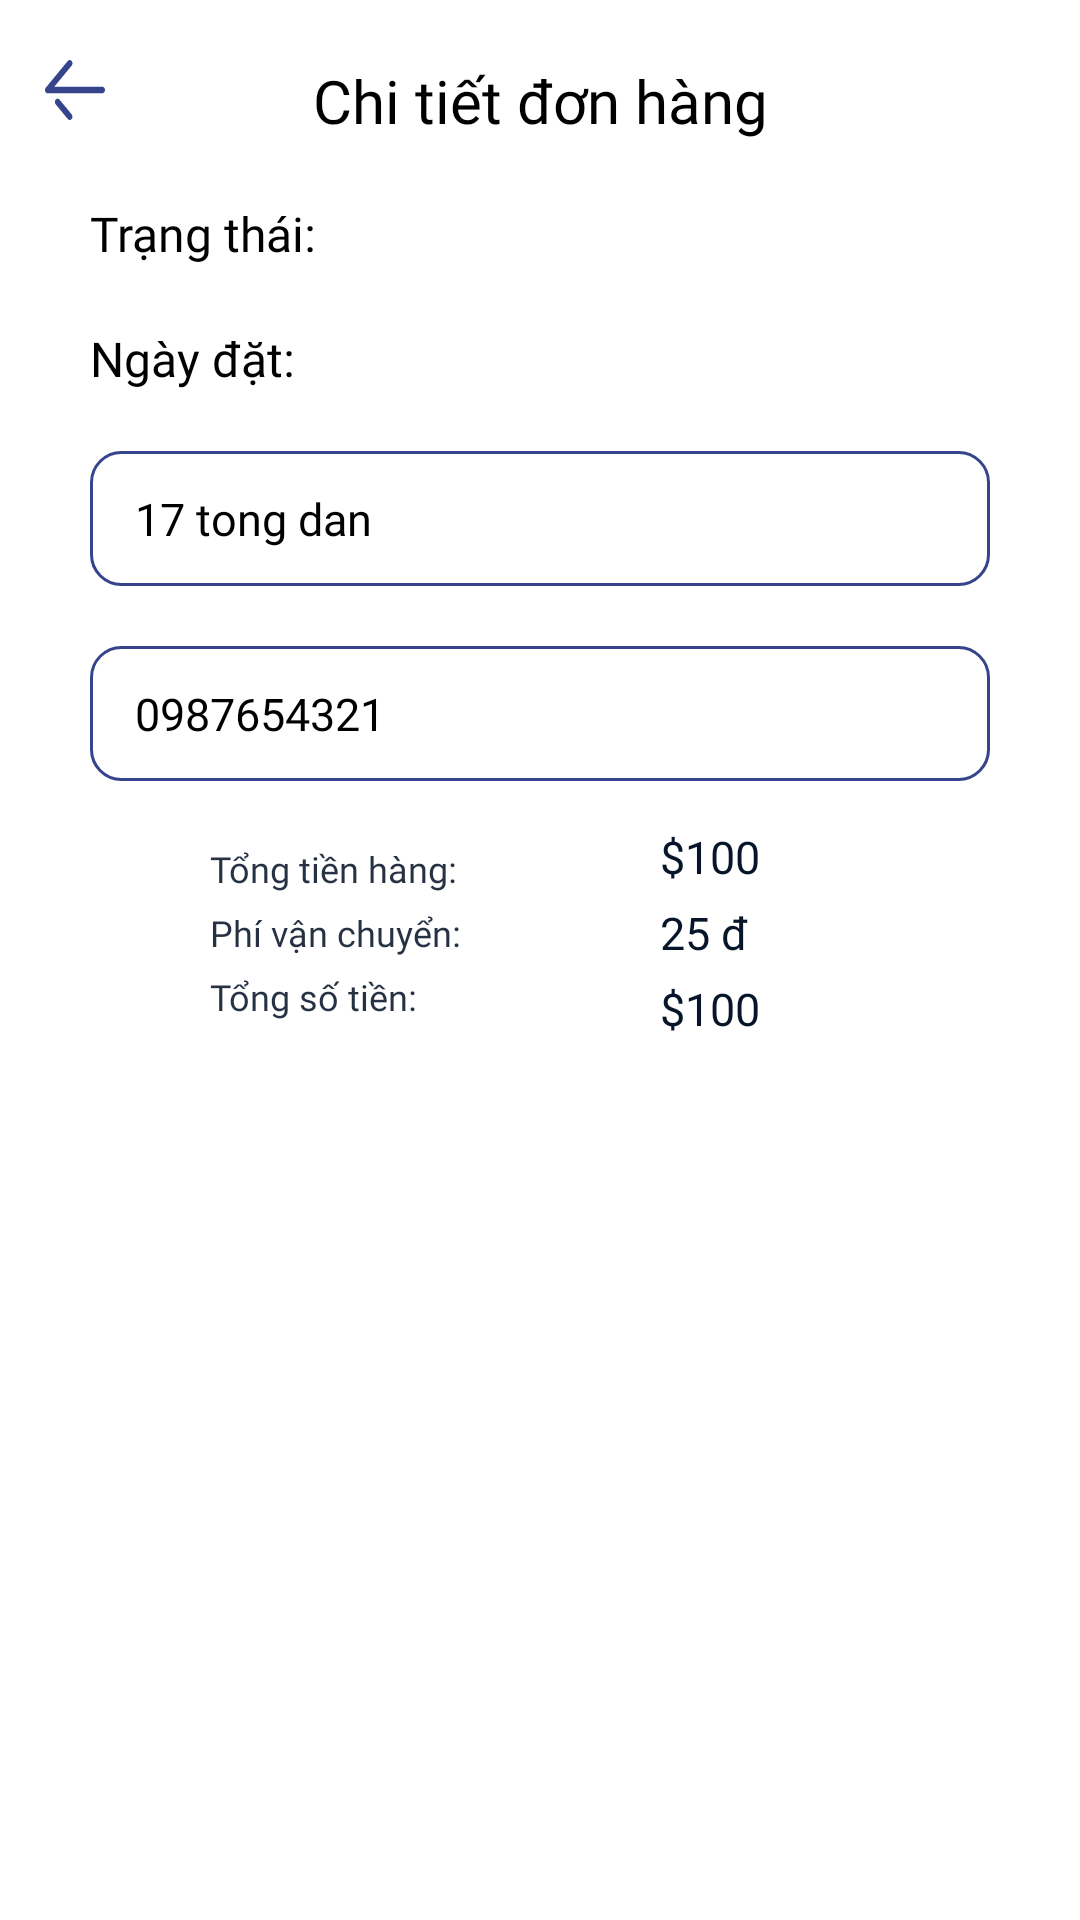

Icon bounding boxes for this 1080px x 1920px phone screenshot, format detection(x1, y1, x2, y2):
back: detection(45, 60, 105, 120)
